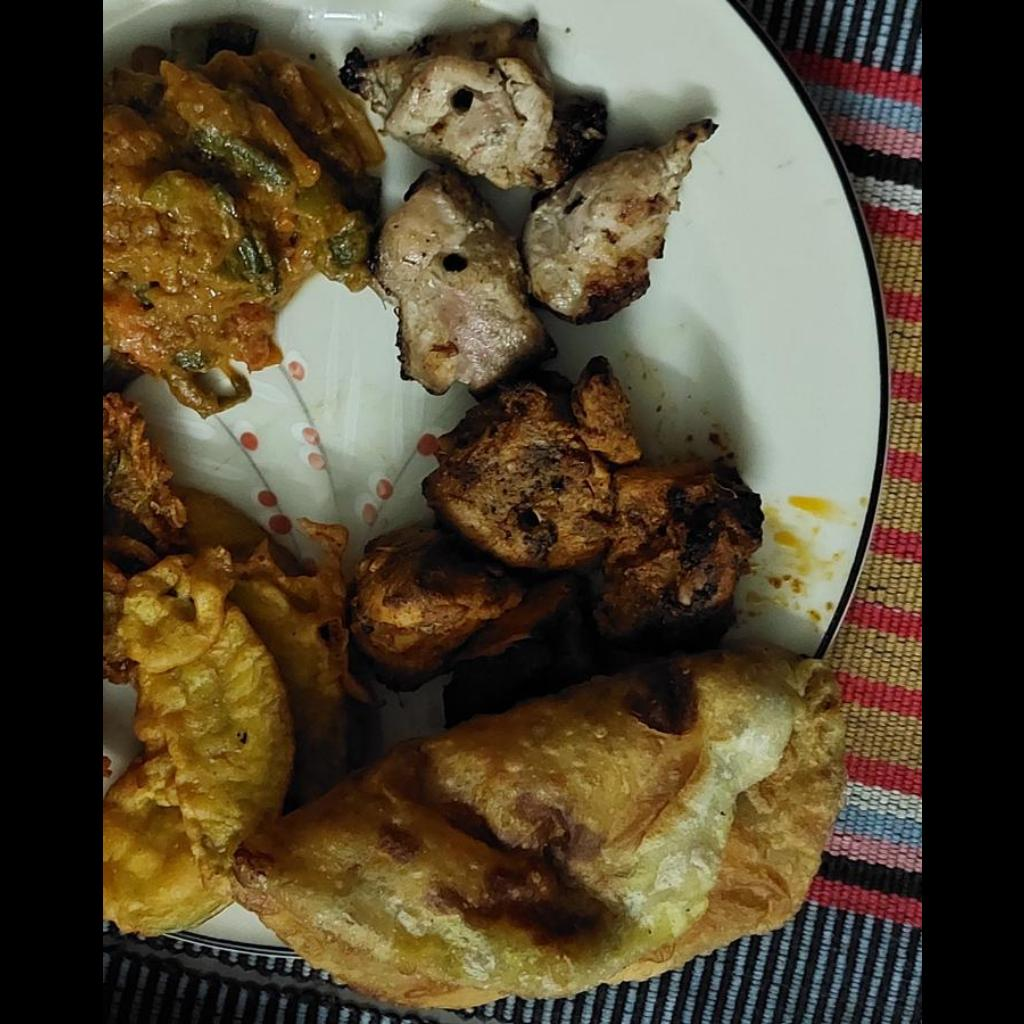beef: (102, 40, 382, 418)
chicken: (348, 357, 762, 717), (339, 18, 714, 395)
piyaju: (102, 548, 360, 937)
puri: (235, 644, 842, 1012)
